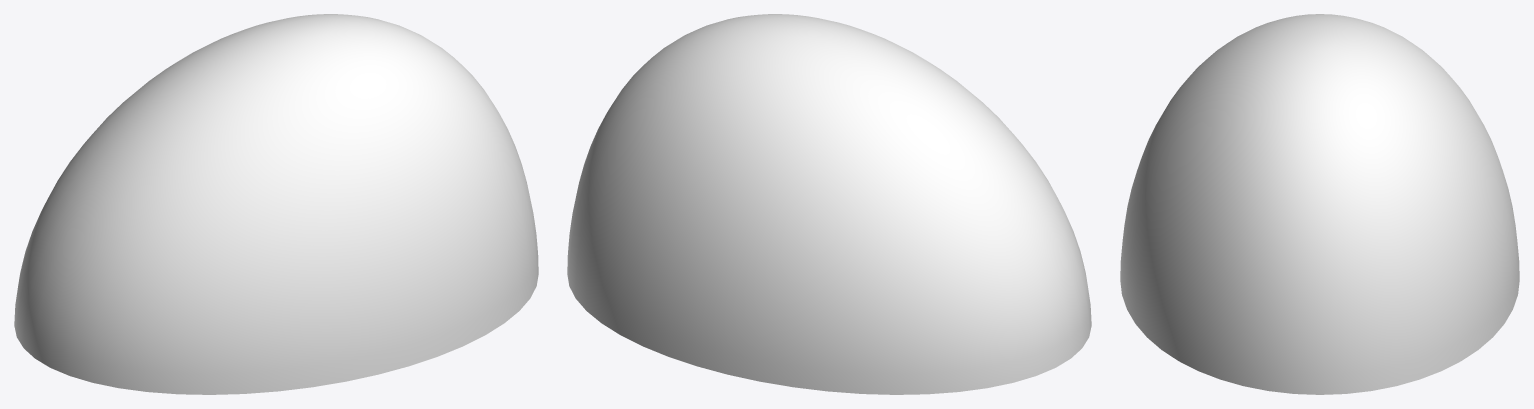
The model's file is hill_tall.obj.
The picture shows the model from 3 angles, left to right: view 1: azimuth 30°, elevation 25°; view 2: azimuth 150°, elevation 25°; view 3: azimuth 270°, elevation 25°; orthographic projection. The views are drawn at different scales.
Parts seen in each view (by area): view 1: hill_tall; view 2: hill_tall; view 3: hill_tall.
Part boxes in pixels (bbox=[...]): hill_tall: bbox=[14, 14, 538, 394]; hill_tall: bbox=[567, 14, 1091, 394]; hill_tall: bbox=[1120, 14, 1519, 394].
Size of the model in its own units: 6 by 3.1 by 4.4.
1 material, 1 textured.
